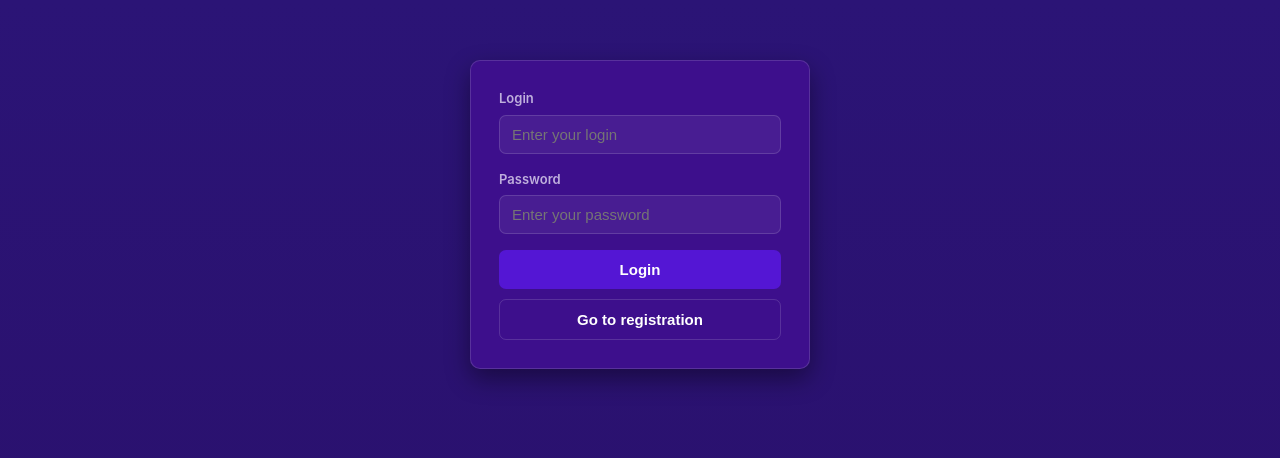
it: LoginForm › shows the server error message on a failed login
The image size is (1280, 458).
In the field labelled "Login": (640, 134) top-left (499, 114), bottom-right (781, 154), type "alice"
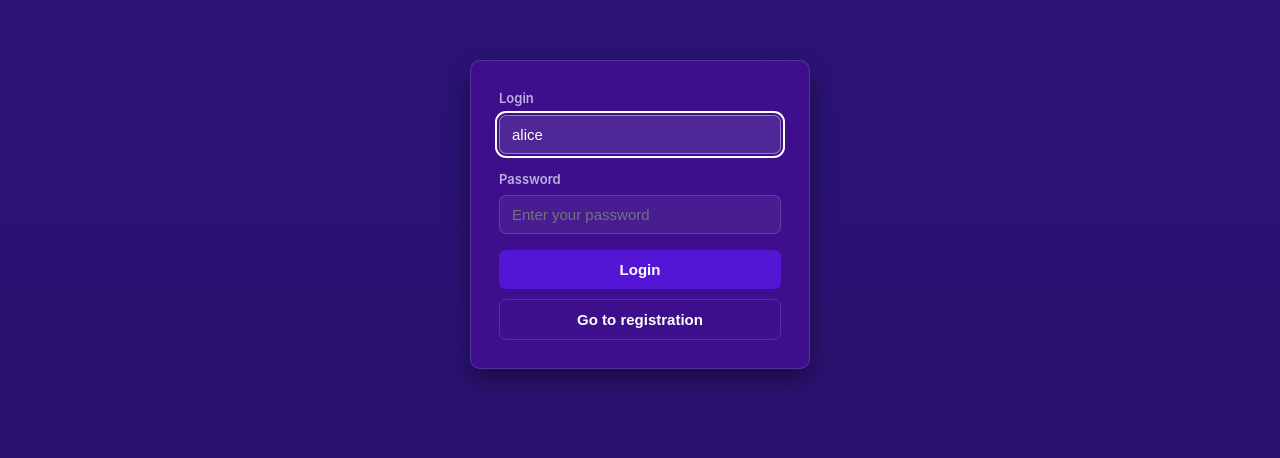
In the password field labelled "Password": (640, 214) top-left (499, 195), bottom-right (781, 234), type "wrongpassword"
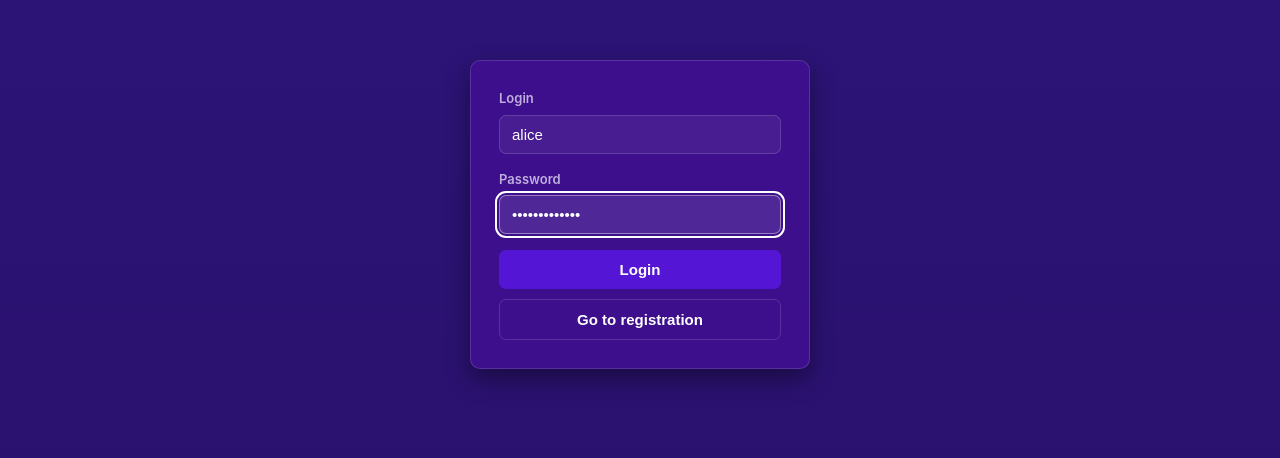
Click the button "Login": (640, 270) top-left (499, 250), bottom-right (781, 289)
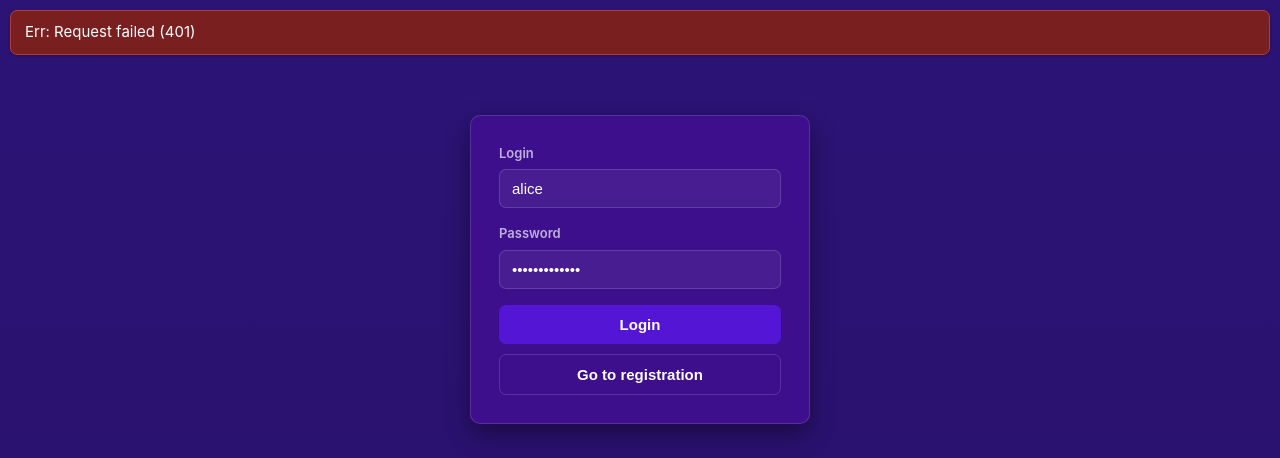
Expected: the button "Login" is enabled, top-left (499, 304), bottom-right (781, 344)
Result: the text "Err: Request failed (401)" is shown at top-left (10, 10), bottom-right (1270, 54)
